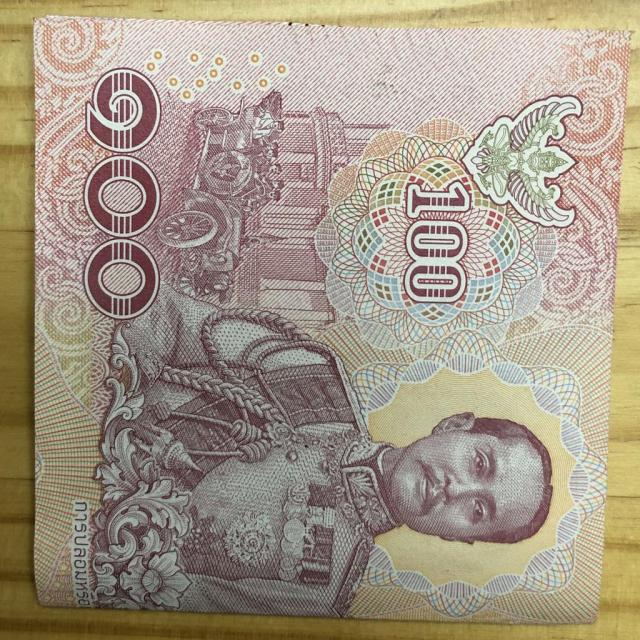THAI100: (34, 16, 629, 624)
